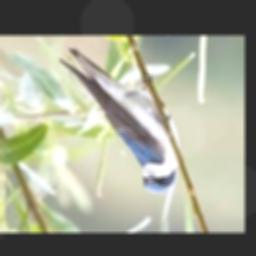Swallow: (59, 48, 180, 194)
